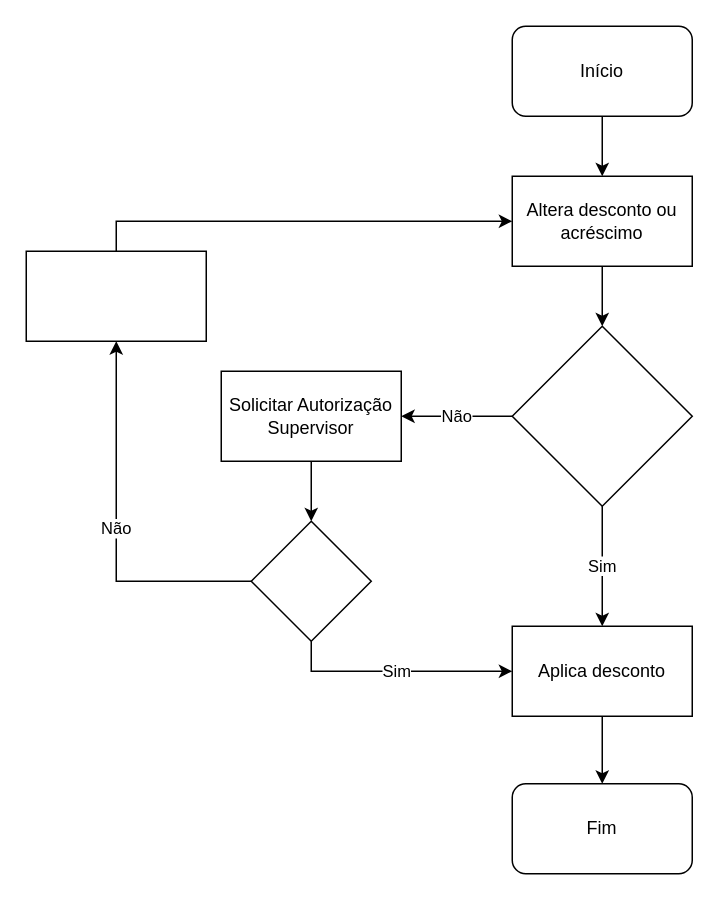
This 719x900 diagram has some shape labels left out. The centre of each missing label's shape, as x and y in pixels:
"Autorizado?" goes at [310,580].
"Está no limite da condição de pagamento?" goes at [601,415].
"Mensagem de erro de bloqueio e foco no campo" goes at [115,295].
